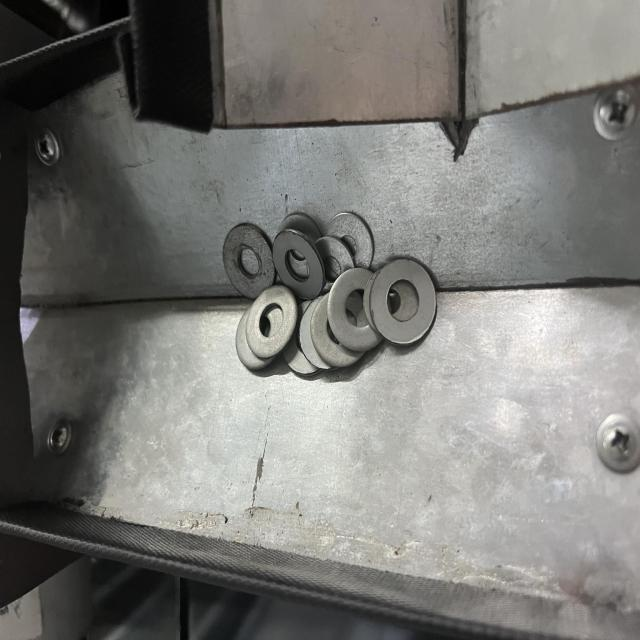washer: (372, 255, 438, 350), (246, 285, 296, 359)
